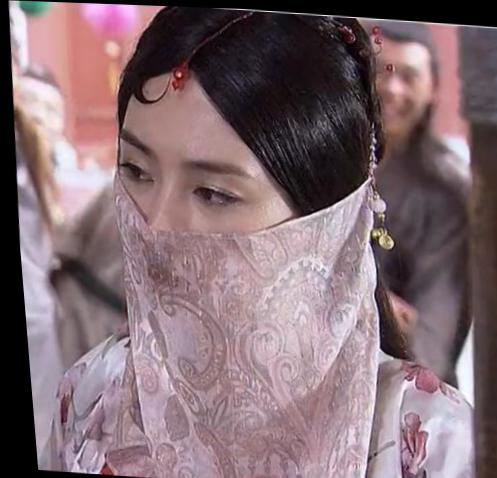NONE: (359, 48, 433, 133)
WRONG: (94, 128, 301, 349)
